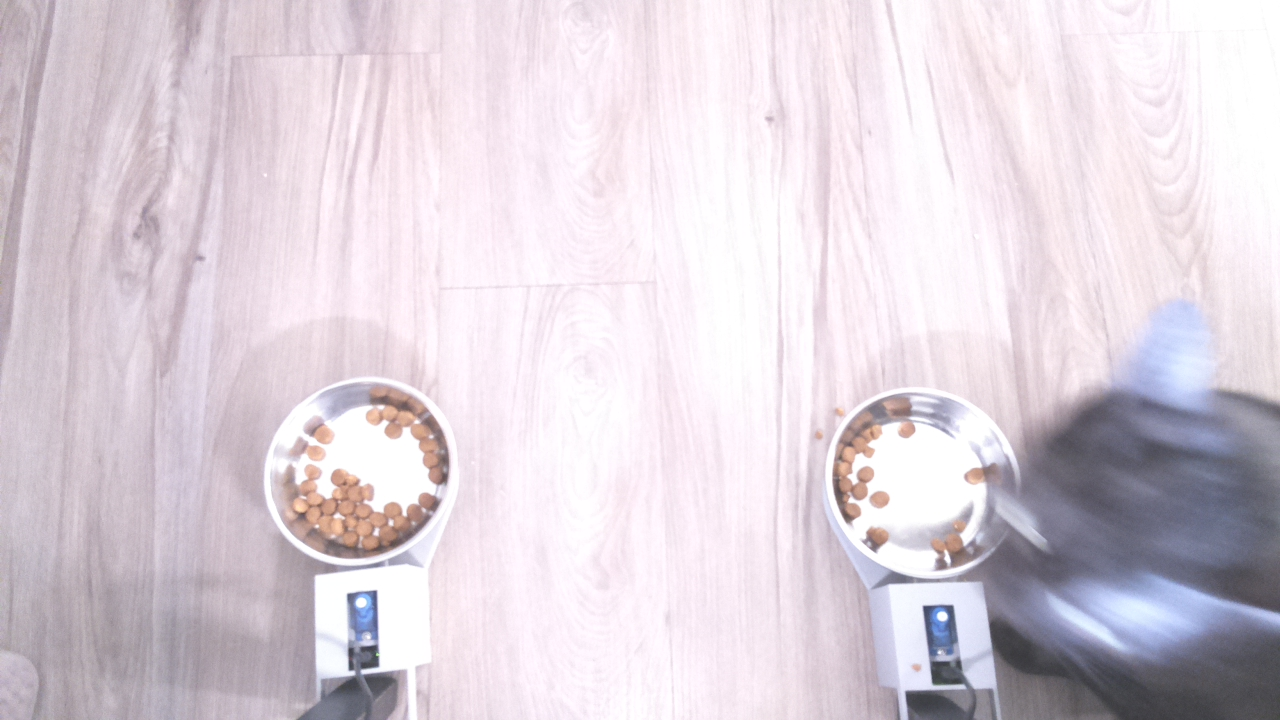open_bowl: (257, 372, 469, 570), (821, 382, 1021, 580)
